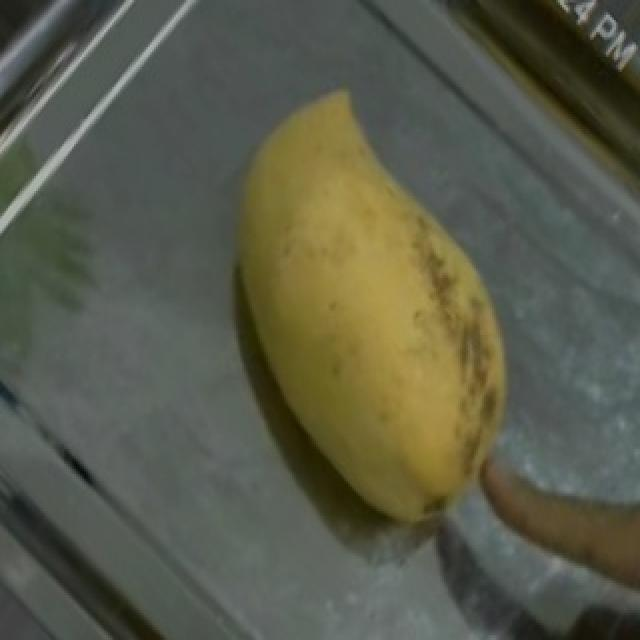fruit: (180, 45, 554, 461), (416, 0, 640, 228)
